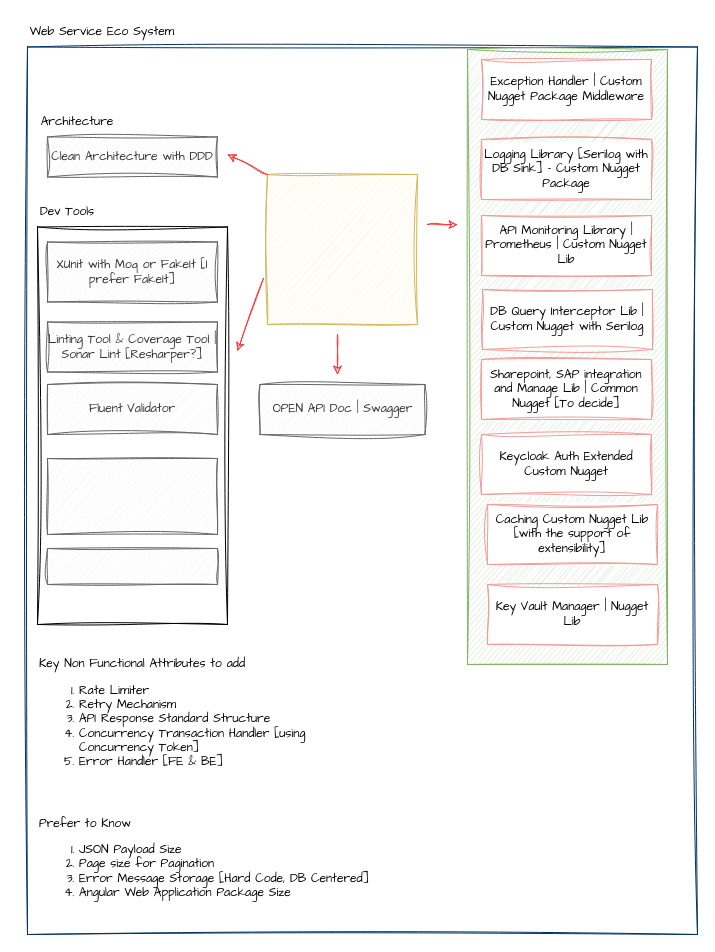
Some shapes in this 715 by 952 pixel diagram are drawn without their labels. The shapes that lost their labels are listed below. From the top down, each one's box as (x1, y1, x2, y2) in pixels, then its label:
(266, 174, 418, 324): Web Service | .NET Application Eco System
(46, 458, 218, 534): Serializer | System.Text.Json [Built in Serializer due to High Performant]
(46, 548, 218, 584): LINQ Ext
